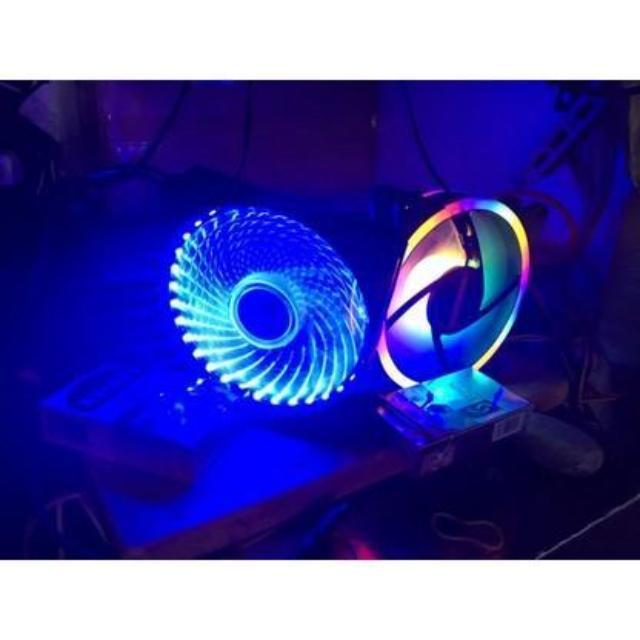CPU_Fan: (162, 175, 516, 392)
